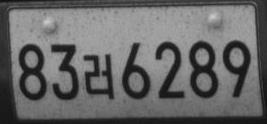2: (154, 40, 185, 99)
3: (50, 44, 79, 100)
6: (121, 42, 151, 99)
7: (189, 40, 218, 99)
8: (17, 43, 47, 100)
9: (222, 39, 251, 97)
러: (83, 53, 114, 99)
